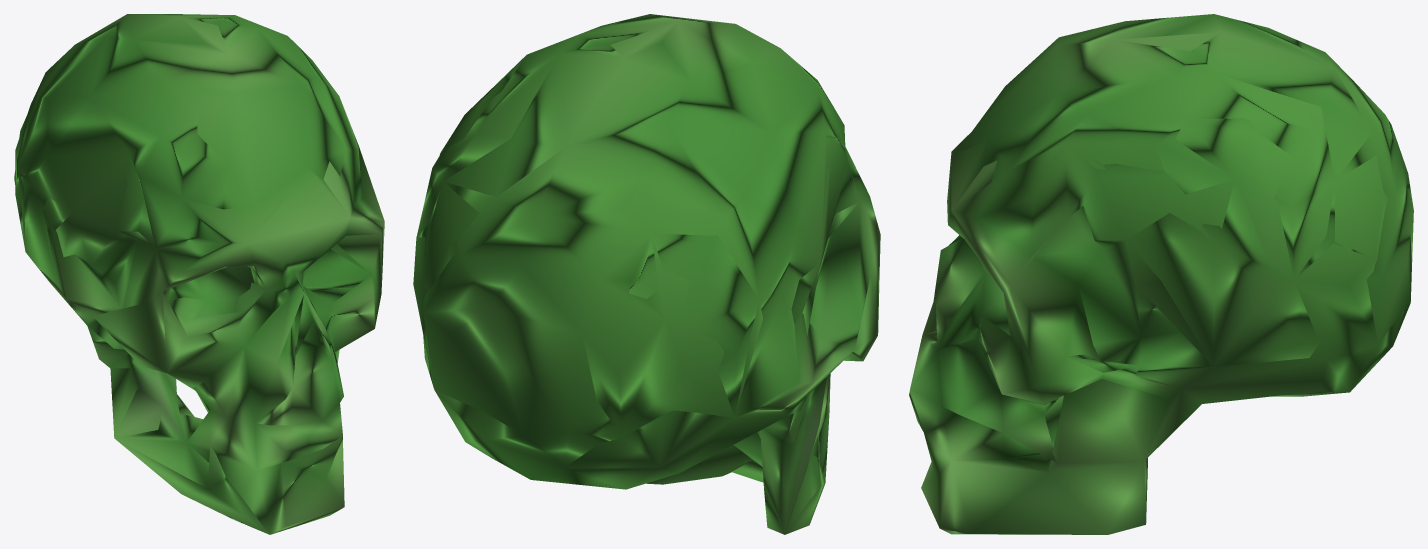
Rendered from gen3d-jade-skull-lod1.glb.
The picture shows the model from 3 angles, left to right: view 1: azimuth 30°, elevation 25°; view 2: azimuth 150°, elevation 25°; view 3: azimuth 270°, elevation 25°; orthographic projection. The views are drawn at different scales.
Parts seen in each view (by area): view 1: part_0; view 2: part_0; view 3: part_0.
Part boxes in pixels (<box>): part_0: <box>14,14,384,534</box>; part_0: <box>413,14,880,534</box>; part_0: <box>909,14,1413,534</box>.
Bounding box in the file's own units: 0.678 × 0.9924 × 0.9372.
